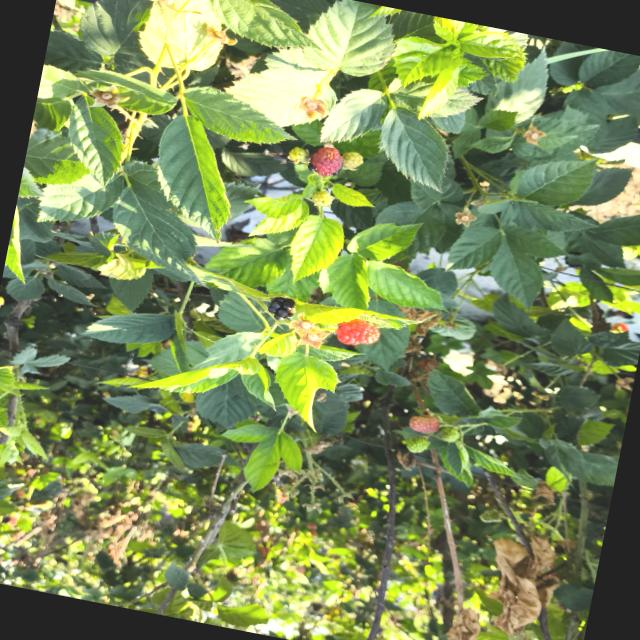maduro: (268, 297, 295, 321)
naranja: (336, 319, 380, 346), (310, 147, 343, 176), (409, 415, 440, 434)
verde: (311, 190, 334, 208), (342, 152, 363, 171), (406, 437, 429, 453), (288, 147, 308, 164), (440, 427, 460, 442)
